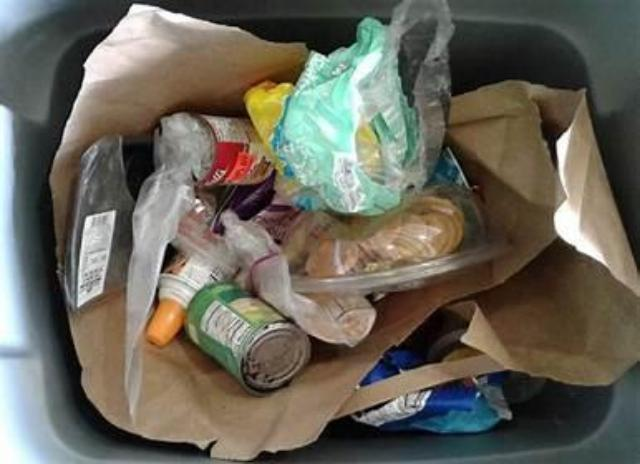Garbage: (50, 0, 640, 459)
Plastic_Bag: (245, 3, 452, 214), (284, 186, 510, 294), (220, 210, 376, 347), (124, 166, 194, 419), (65, 134, 134, 309), (76, 210, 116, 307)
Plastic_Container: (146, 252, 222, 345)
tin_box: (185, 283, 310, 396), (154, 113, 273, 186)
